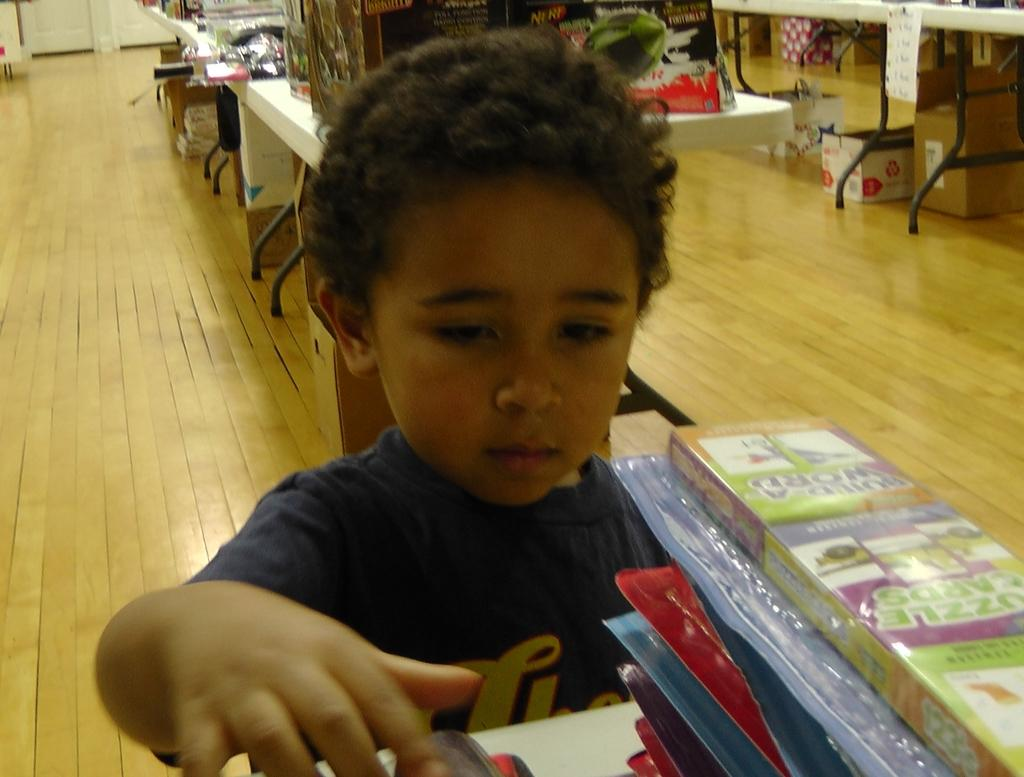Book: (617, 424, 1007, 758)
